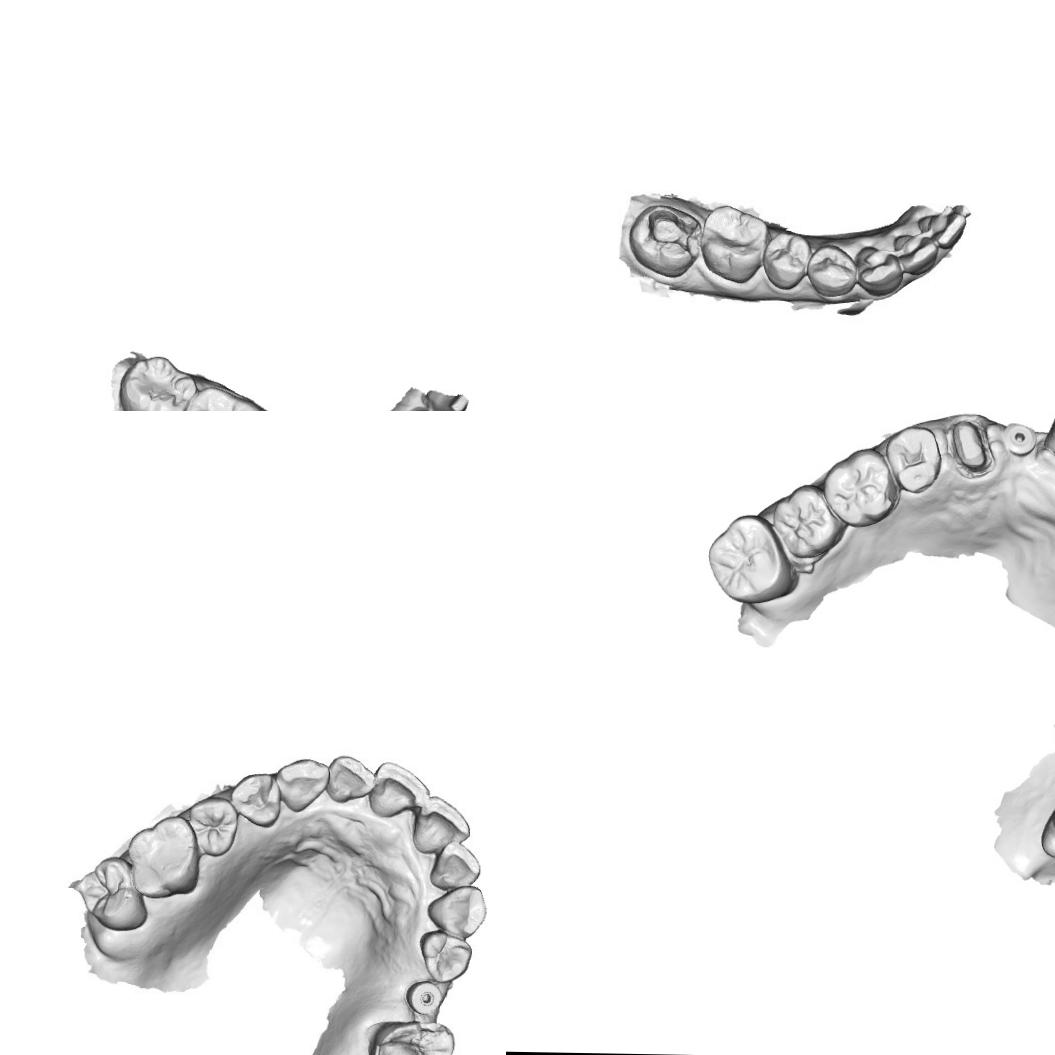canine: (425, 882, 488, 938), (280, 756, 327, 814), (853, 243, 902, 296)
crown: (944, 411, 997, 478)
implant: (1001, 418, 1041, 462), (408, 981, 444, 1017)
incisor: (371, 762, 427, 812), (412, 802, 468, 848), (890, 231, 938, 276), (331, 757, 378, 801), (914, 212, 966, 250), (432, 846, 480, 886), (418, 391, 467, 411)
inlay: (639, 204, 701, 260)
molar: (704, 512, 798, 606), (820, 447, 900, 529), (769, 482, 844, 559), (695, 204, 766, 282), (78, 860, 146, 932), (130, 818, 196, 892), (116, 353, 198, 411), (375, 1020, 453, 1055), (181, 385, 266, 411)
premolar: (883, 422, 942, 494), (762, 229, 810, 292), (232, 772, 282, 831), (192, 798, 239, 859), (806, 242, 856, 299), (421, 929, 472, 980)
